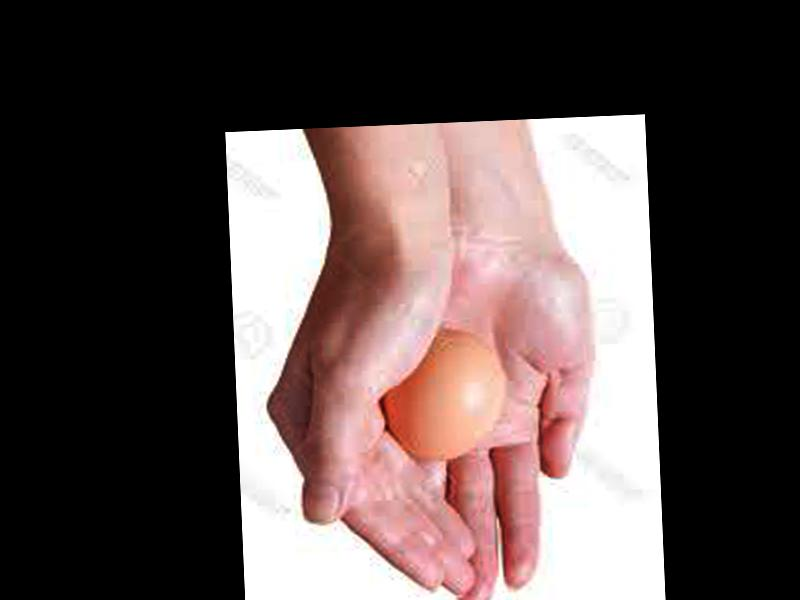Eggs: (383, 334, 502, 461)
